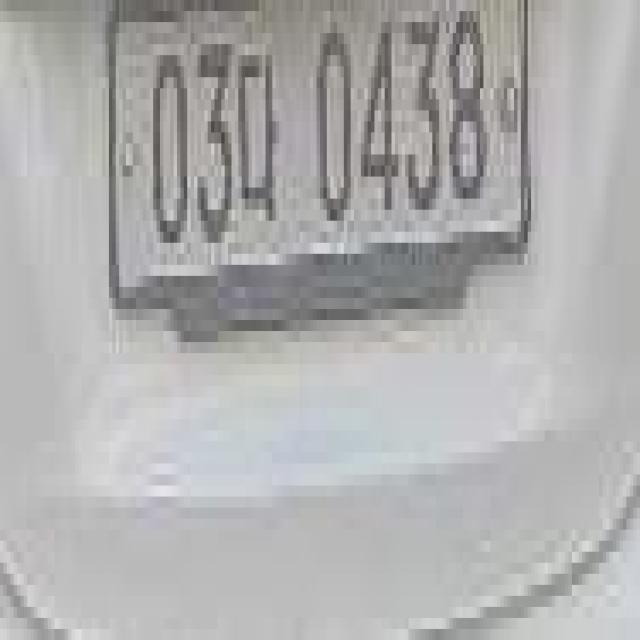illegal_plate: (105, 0, 536, 320)
